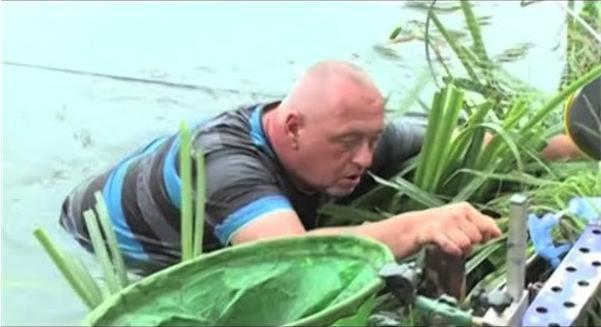Drunk: (315, 94, 384, 197)
